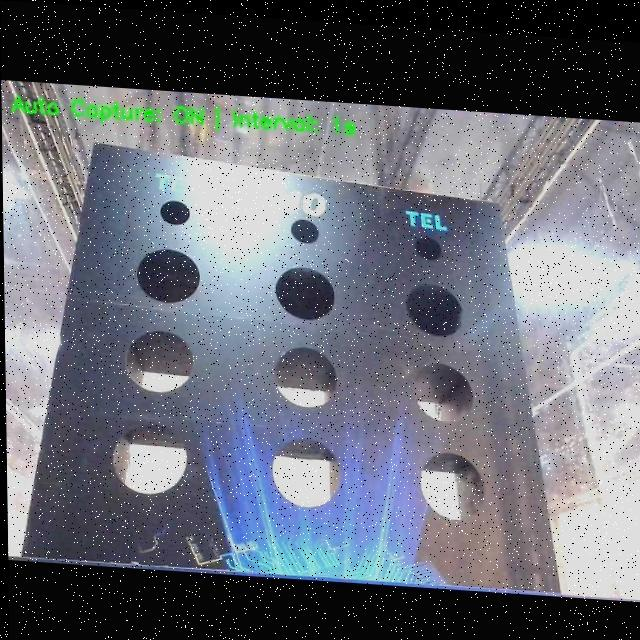hole: (113, 421, 189, 498), (272, 436, 343, 511), (420, 450, 485, 522), (126, 328, 194, 391), (413, 360, 476, 424), (277, 345, 337, 409), (138, 247, 201, 305), (278, 266, 334, 321), (408, 284, 463, 337), (160, 200, 190, 226), (290, 218, 319, 244), (416, 236, 443, 262)
